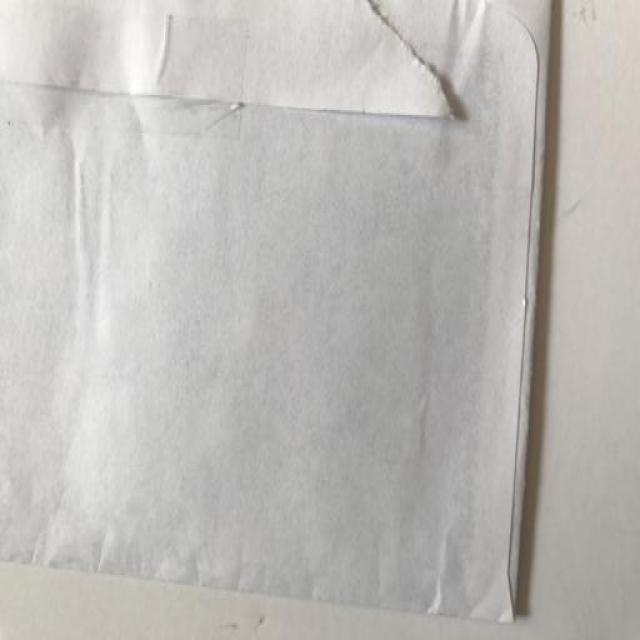paper: (0, 0, 554, 625)
